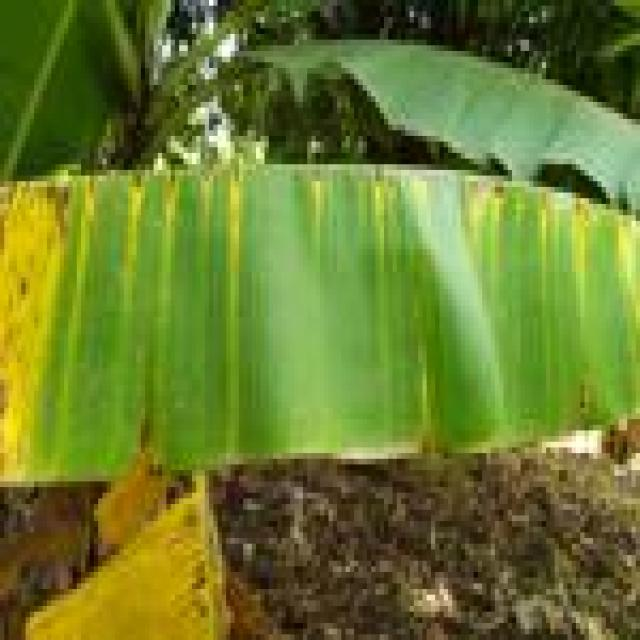Early_rust: (0, 134, 640, 484), (3, 487, 268, 640)
